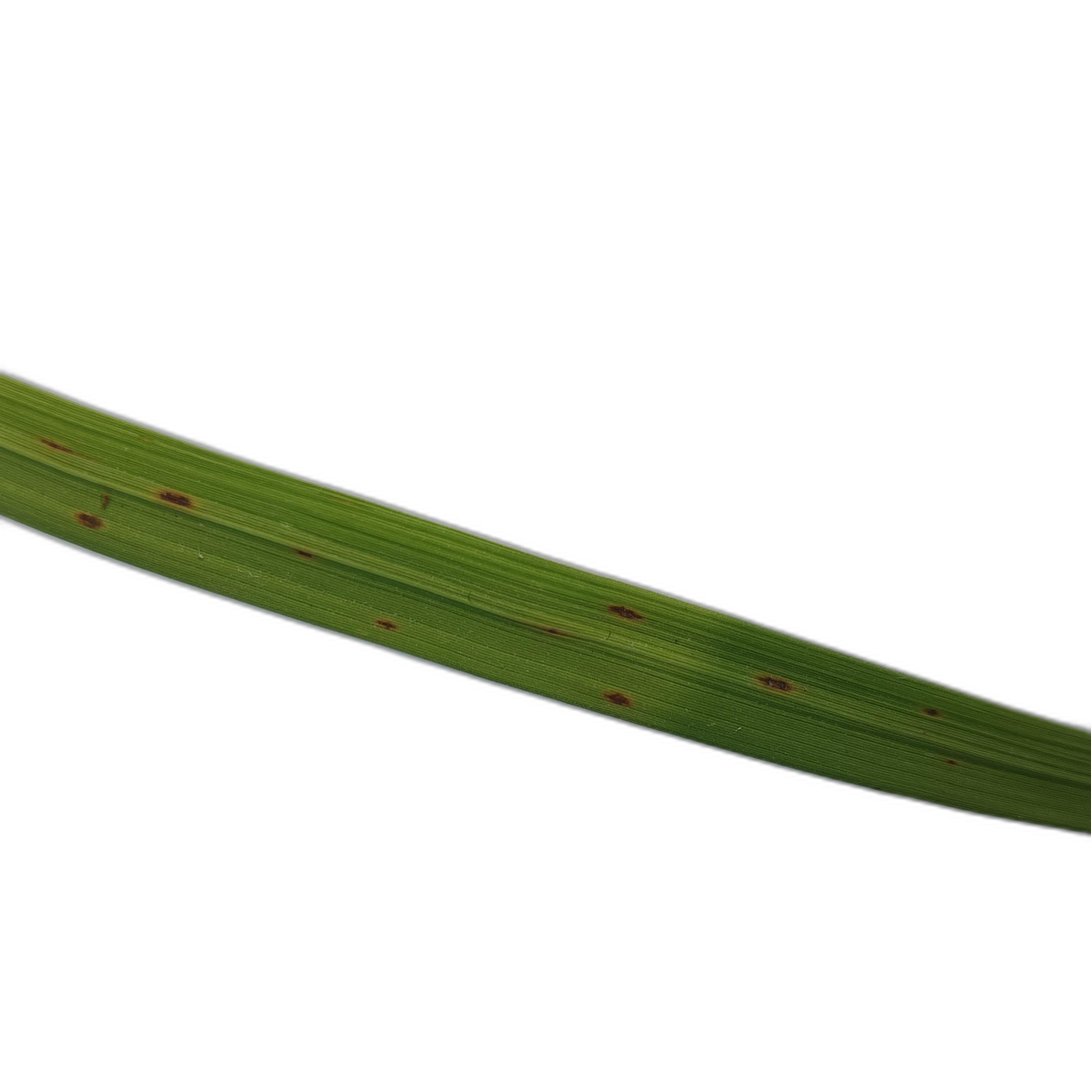LEAF BLAST: (155, 488, 195, 510), (757, 674, 793, 692), (75, 510, 104, 531), (607, 604, 644, 620), (603, 692, 633, 707)
